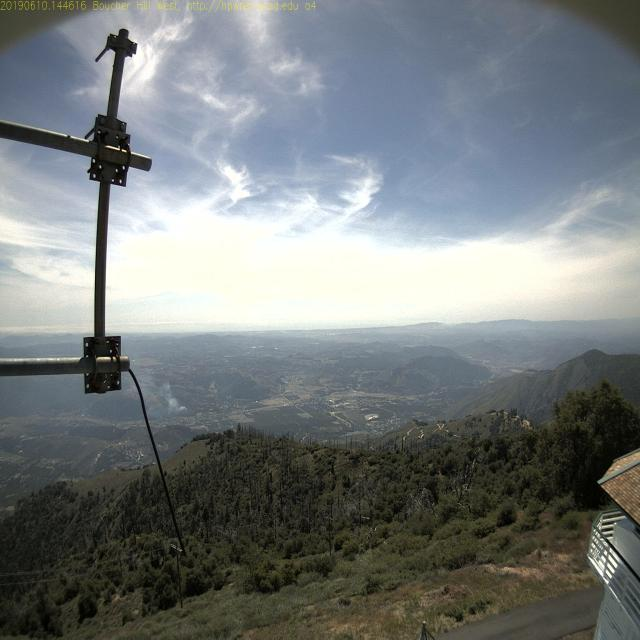smoke: (174, 389, 197, 424)
